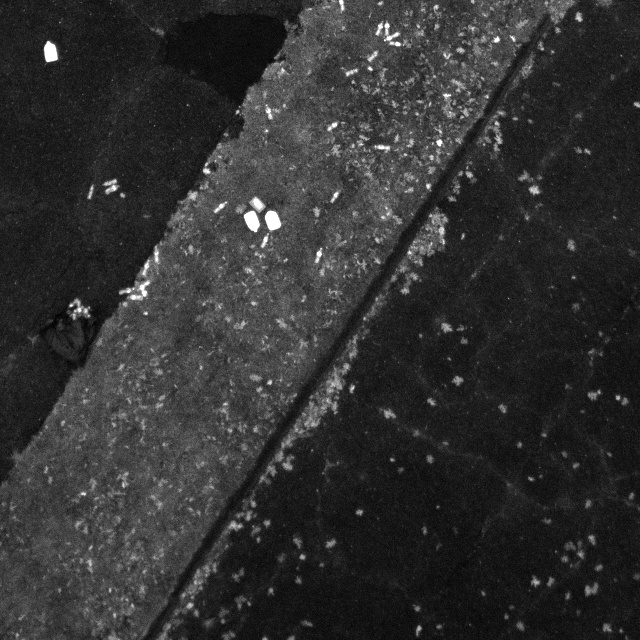bottle: (212, 200, 232, 215), (262, 102, 275, 122), (387, 38, 408, 50), (102, 184, 121, 197), (371, 141, 393, 152), (128, 290, 148, 302), (102, 177, 122, 187), (260, 231, 271, 248), (366, 49, 379, 63), (139, 285, 154, 297), (117, 286, 135, 295), (136, 279, 149, 291), (68, 294, 79, 308), (345, 67, 360, 77), (87, 183, 96, 199), (327, 119, 338, 130), (332, 187, 339, 204), (315, 246, 322, 262)
can: (41, 36, 62, 65), (239, 209, 262, 234), (262, 207, 283, 232)
container: (247, 195, 268, 212)
